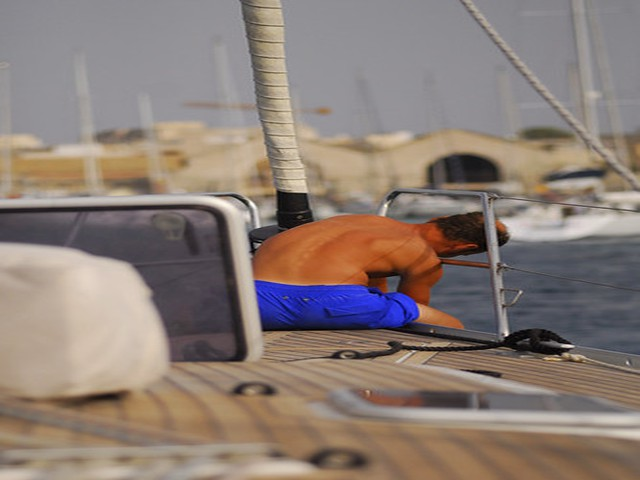Person: (248, 189, 508, 357)
